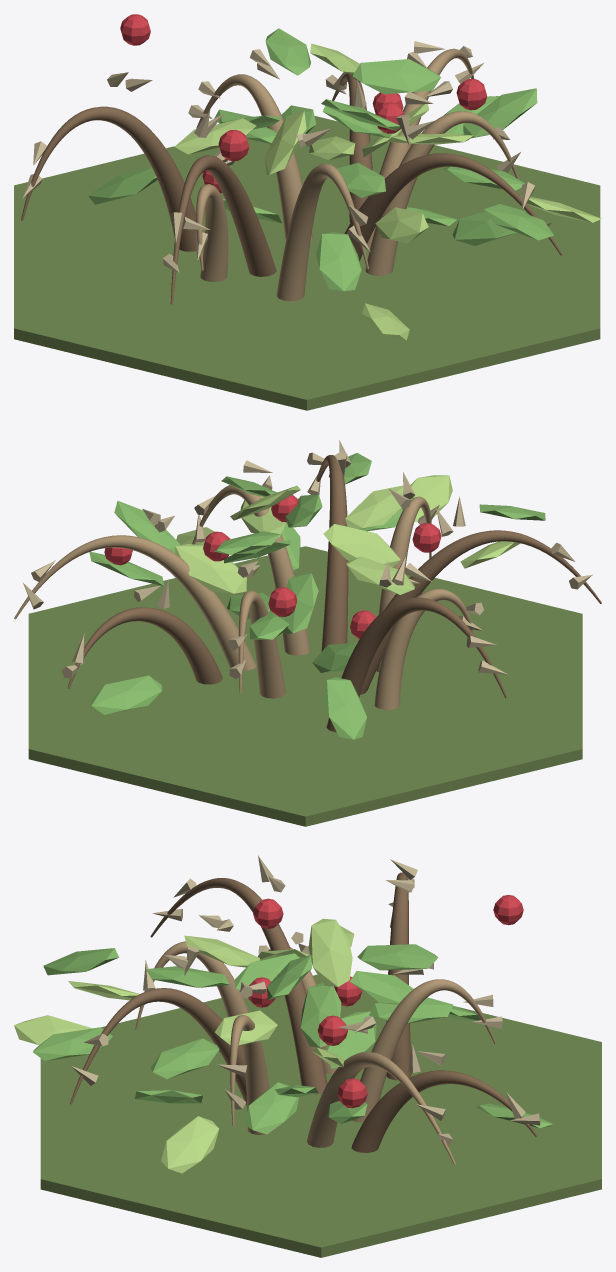
The model's file is thicket.glb.
The picture shows the model from 3 angles, top to bottom: view 1: azimuth 30°, elevation 25°; view 2: azimuth 150°, elevation 25°; view 3: azimuth 270°, elevation 25°; orthographic projection. The views are drawn at different scales.
Visible parts, largest first — view 1: thicket; view 2: thicket; view 3: thicket.
Part boxes in pixels (x1,y1,x2,y2): thicket: (14, 14, 601, 410); thicket: (14, 440, 601, 826); thicket: (14, 855, 601, 1257).
Bounding box in the file's own units: 1.7 × 0.5979 × 1.54.
